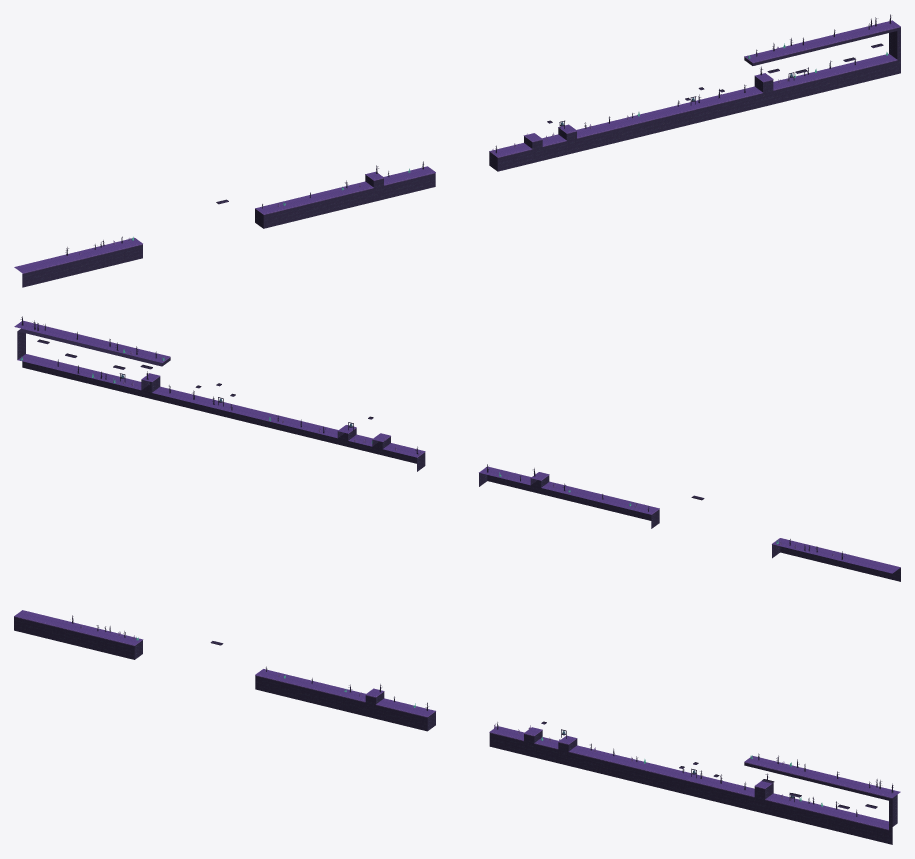
Rendered from level-7.glb.
3 views of the same model, one above another, from view 1: azimuth 30°, elevation 25°; view 2: azimuth 150°, elevation 25°; view 3: azimuth 330°, elevation 25° (orthographic).
Visible parts, largest first — view 1: Sector_15_0, Sector_16_0, Sector_17_0, Sector_11_0, Sector_10_0, Sector_7_0, Sector_5_0, Sector_14_0, Sector_1_0, Sector_13_0, Sector_12_0, Sector_6_0 (+3 smaller); view 2: Sector_15_0, Sector_17_0, Sector_16_0, Sector_10_0, Sector_11_0, Sector_7_0, Sector_5_0, Sector_14_0, Sector_0_0, Sector_13_0, Sector_1_0, Sector_6_0 (+1 smaller); view 3: Sector_15_0, Sector_16_0, Sector_17_0, Sector_11_0, Sector_10_0, Sector_7_0, Sector_14_0, Sector_1_0, Sector_13_0, Sector_6_0, Sector_12_0, Sector_5_0 (+4 smaller).
Part boxes in pixels (x1,y1,x2,y2): Sector_15_0: (738,43,793,107); Sector_16_0: (786,29,842,95); Sector_17_0: (834,17,890,83); Sector_11_0: (545,120,600,154); Sector_10_0: (497,120,552,166); Sector_7_0: (352,165,408,201); Sector_5_0: (255,196,311,225); Sector_14_0: (689,87,745,118); Sector_1_0: (62,240,118,271); Sector_13_0: (641,97,697,130); Sector_12_0: (593,112,649,142); Sector_6_0: (303,180,359,213); Sector_15_0: (121,346,177,401); Sector_17_0: (24,320,80,378); Sector_16_0: (73,332,129,389); Sector_10_0: (362,416,418,460); Sector_11_0: (314,422,370,448); Sector_7_0: (507,468,563,495); Sector_5_0: (603,496,659,525); Sector_14_0: (169,383,225,413); Sector_0_0: (844,555,900,578); Sector_13_0: (217,393,273,425); Sector_1_0: (796,544,852,566); Sector_6_0: (555,483,611,507); Sector_15_0: (737,753,793,814); Sector_16_0: (785,759,841,826); Sector_17_0: (834,777,890,838); Sector_11_0: (544,729,600,767); Sector_10_0: (496,721,552,756); Sector_7_0: (351,684,407,720); Sector_14_0: (689,762,744,803); Sector_1_0: (62,615,118,650); Sector_13_0: (641,763,697,791); Sector_6_0: (303,678,359,709); Sector_12_0: (593,748,648,779); Sector_5_0: (255,666,311,697).
Size of the model in its own units: 255 by 15.68 by 4.3.
1 material, 1 textured.
